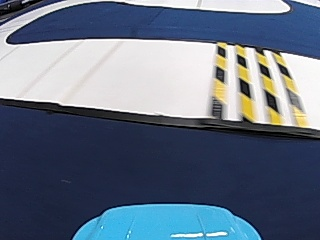bump: (196, 44, 303, 125)
